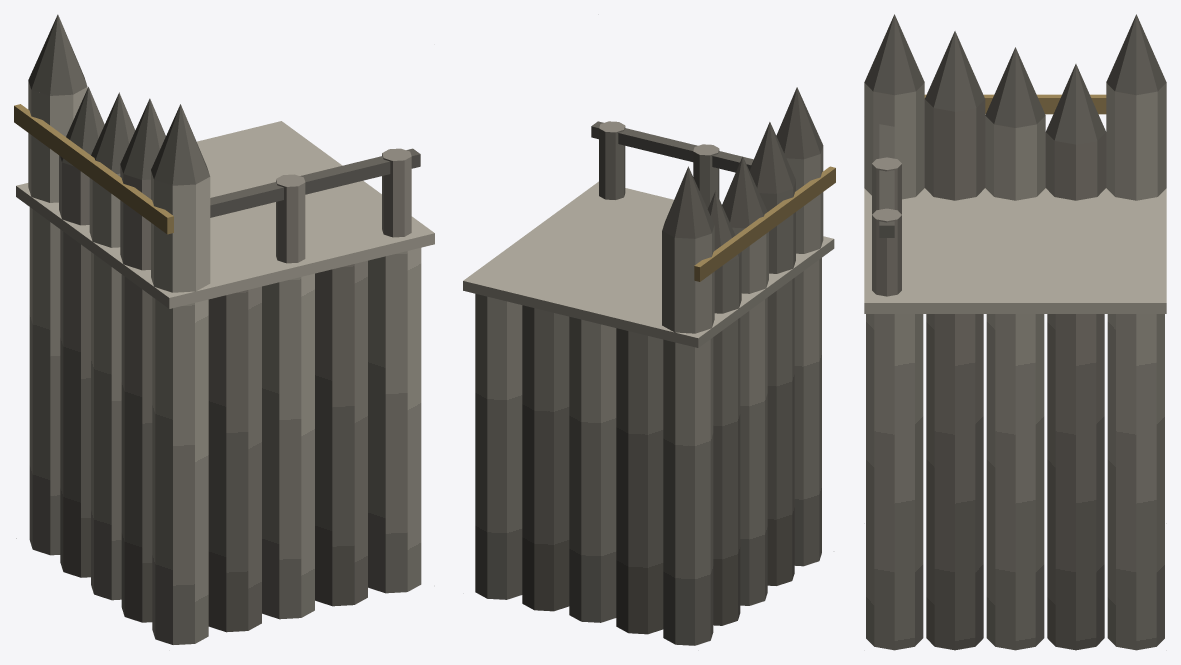
The model's file is perimeter_wall_stone_f3.glb.
3 views of the same model, side by side, from view 1: azimuth 30°, elevation 25°; view 2: azimuth 150°, elevation 25°; view 3: azimuth 270°, elevation 25° (orthographic). The views are drawn at different scales.
Size of the model in its own units: 2.01 by 3.9 by 2.
1 material, 1 textured.
